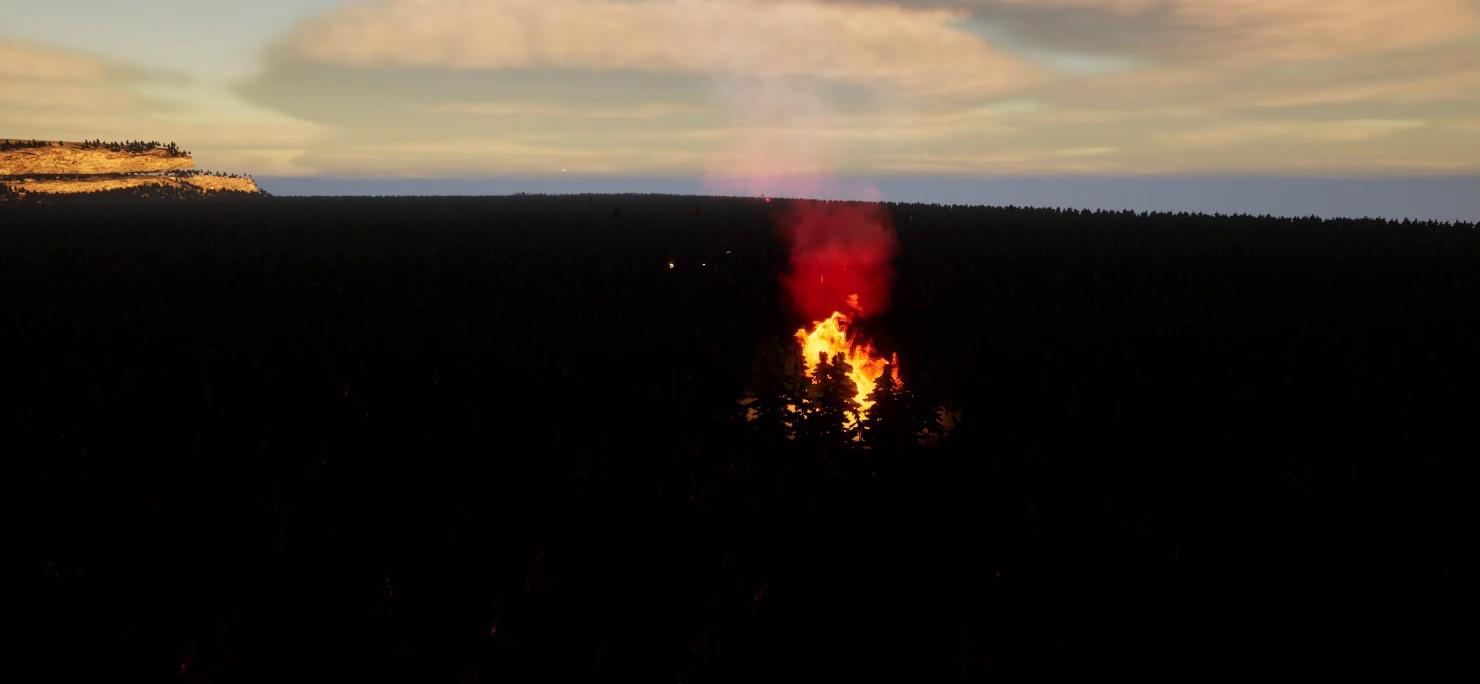fire: (795, 314, 905, 424)
smoke: (708, 91, 903, 306)
